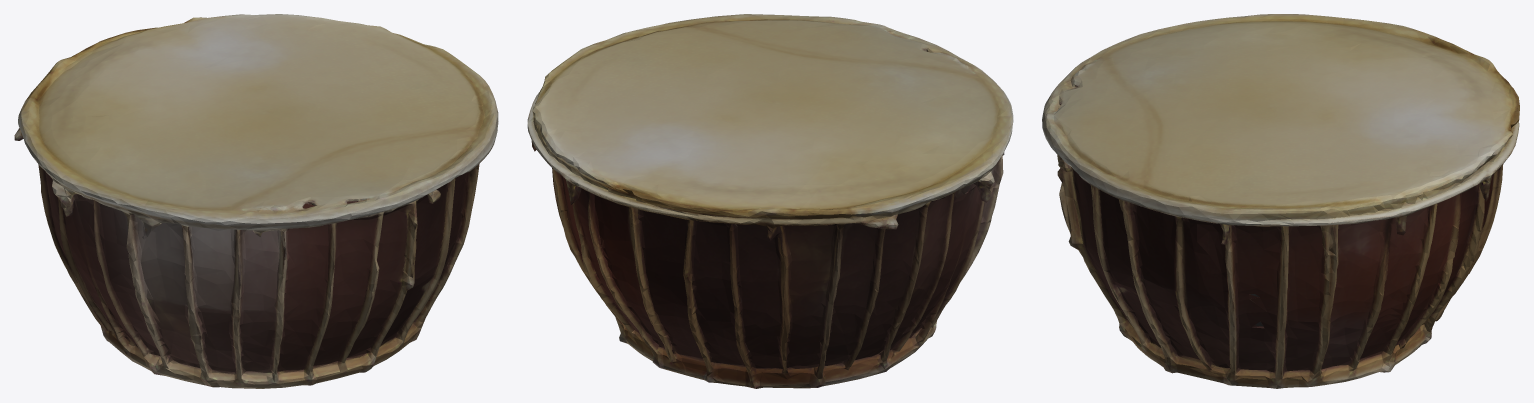
File: sumatera-selatan.glb
3 views of the same model, side by side, from view 1: azimuth 30°, elevation 25°; view 2: azimuth 150°, elevation 25°; view 3: azimuth 270°, elevation 25° (orthographic).
Parts seen in each view (by area): view 1: world; view 2: world; view 3: world.
Part boxes in pixels (x1,y1,x2,y2): world: (14, 14, 498, 388); world: (527, 14, 1013, 388); world: (1042, 14, 1519, 388).
Bounding box in the file's own units: 0.4518 × 0.2237 × 0.4404.
1 material, 1 textured.
